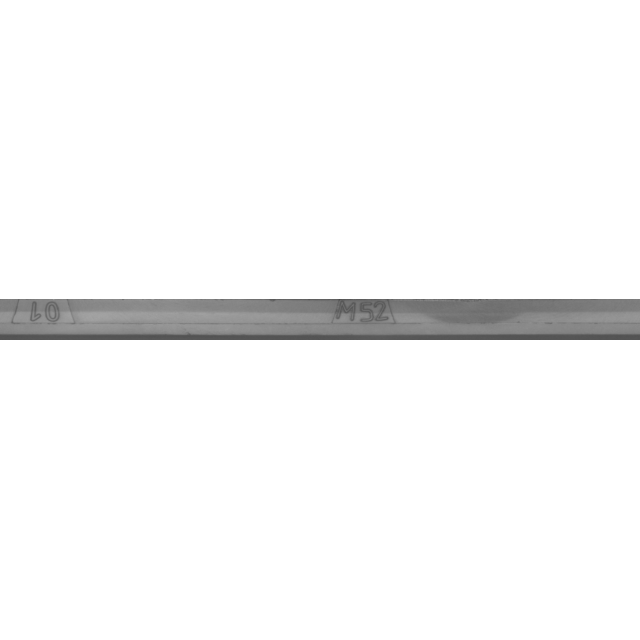mohao: (263, 270, 463, 370)
xuehao: (0, 270, 140, 370)
